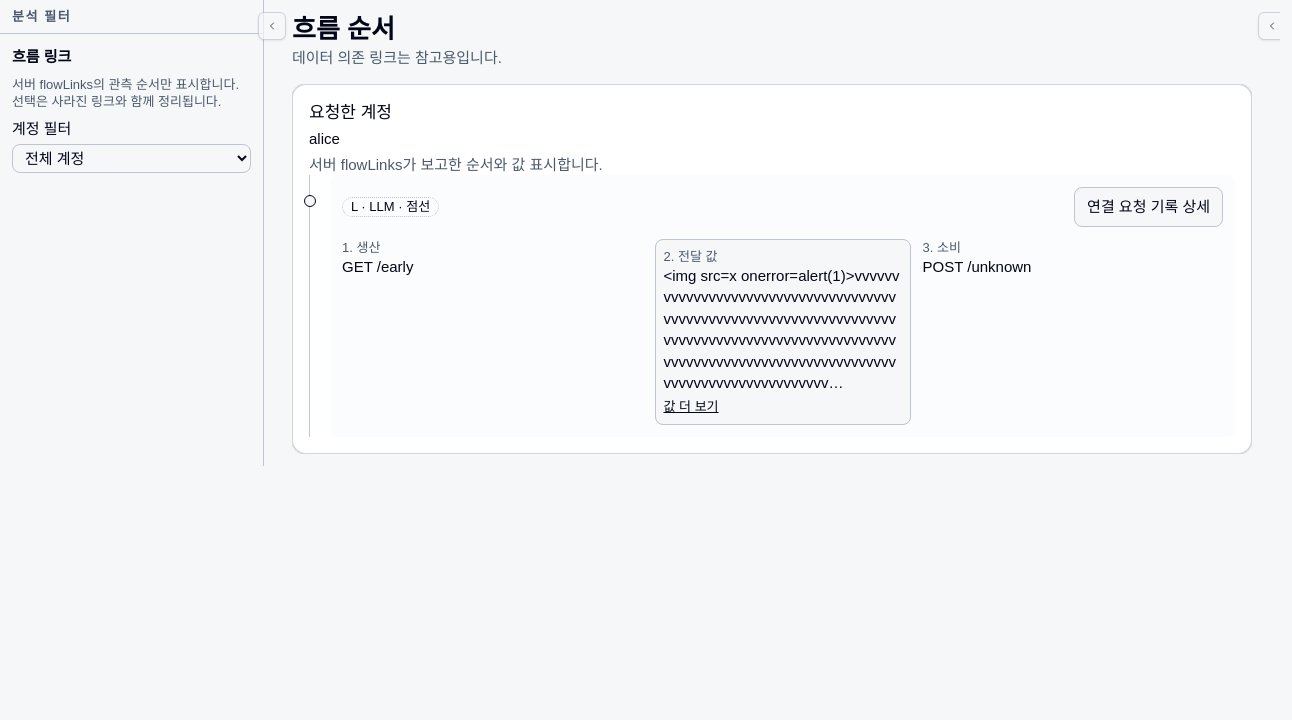
escapes and bounds a long markup-like masked value until it is explicitly expanded
Click the button "값 더 보기".
click(691, 406)  # box 664,398 -> 719,415
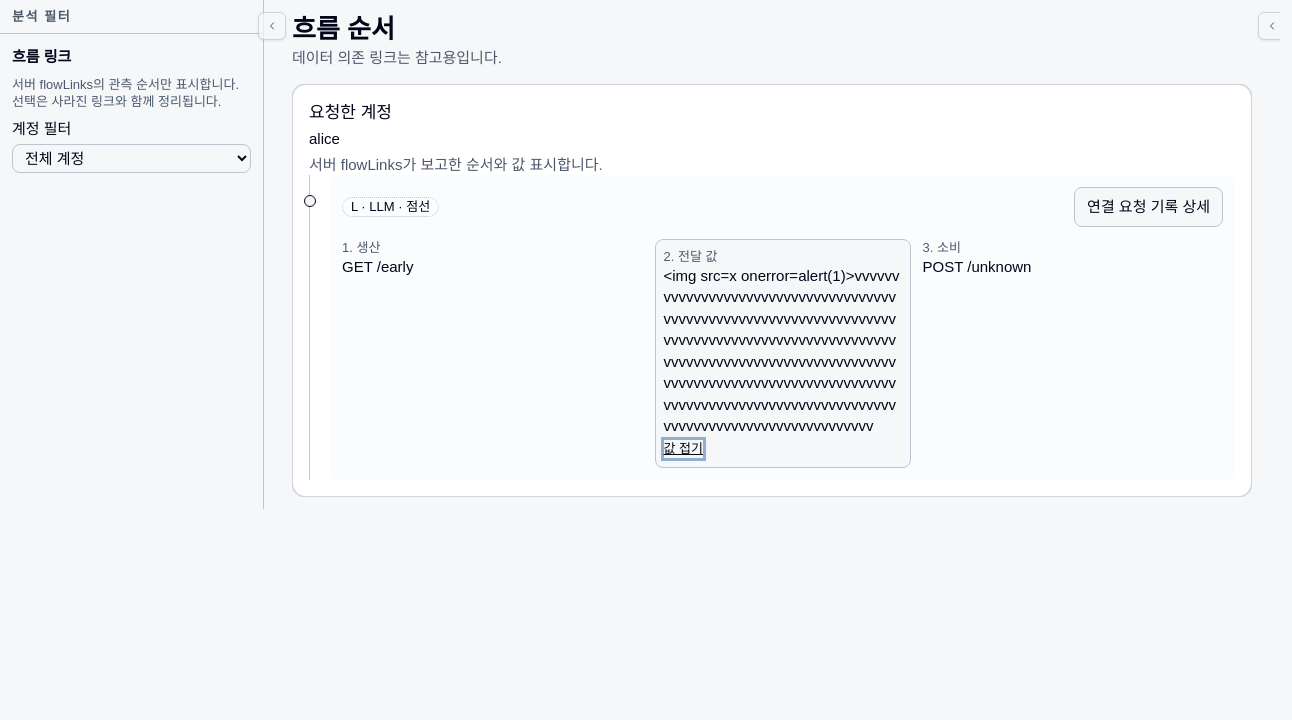
Expected: the button "값 접기" is shown, 664,440 -> 703,458
